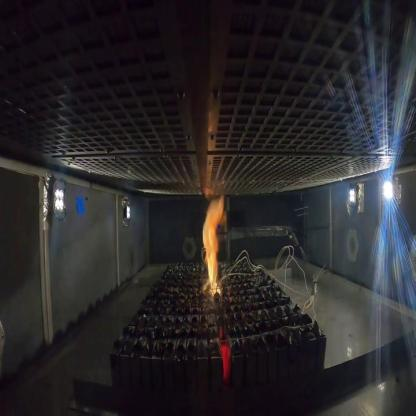fire: (201, 193, 227, 297)
